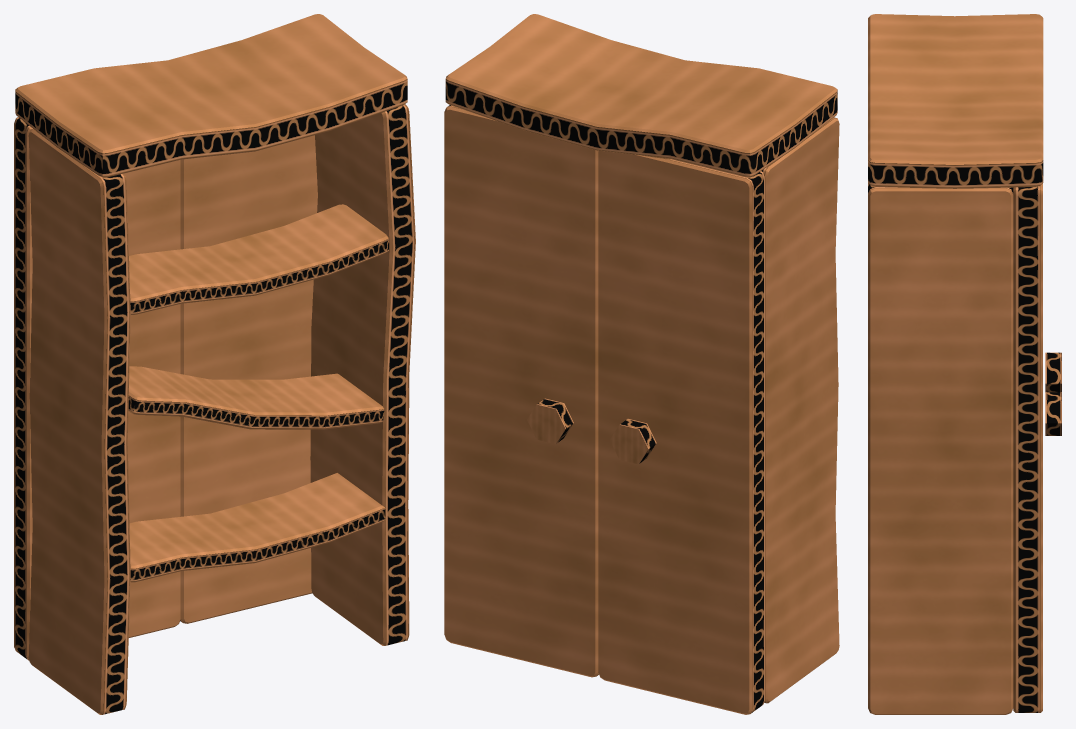
Rendered from M_CardboardAssets_Closet.fbx.
3 renders of one model, left to right at view 1: azimuth 30°, elevation 25°; view 2: azimuth 150°, elevation 25°; view 3: azimuth 270°, elevation 25°, orthographic.
Parts seen in each view (by area): view 1: Side_R, Side_L, Door_L, Top, Door_R, Shelf_Top, Shelf_Bottom, Shelf_Mid; view 2: Door_R, Door_L, Side_R, Top; view 3: Side_L, Top, Door_L, Door_R.
Boxes of the visible parts, x1,y1,x2,y2 form: Side_R: (28,129,130,714); Side_L: (310,104,415,645); Door_L: (180,135,317,623); Top: (15,14,407,177); Door_R: (14,117,180,660); Shelf_Top: (129,204,388,314); Shelf_Bottom: (129,473,385,582); Shelf_Mid: (128,366,384,429); Door_R: (598,150,765,714); Door_L: (444,105,598,677); Side_R: (762,117,839,703); Top: (445,14,837,177); Side_L: (868,183,1013,714); Top: (868,14,1043,188); Door_L: (1013,183,1061,712); Door_R: (1045,352,1061,392).
Bounding box in the file's own units: 2.99 × 5.12 × 1.62.
